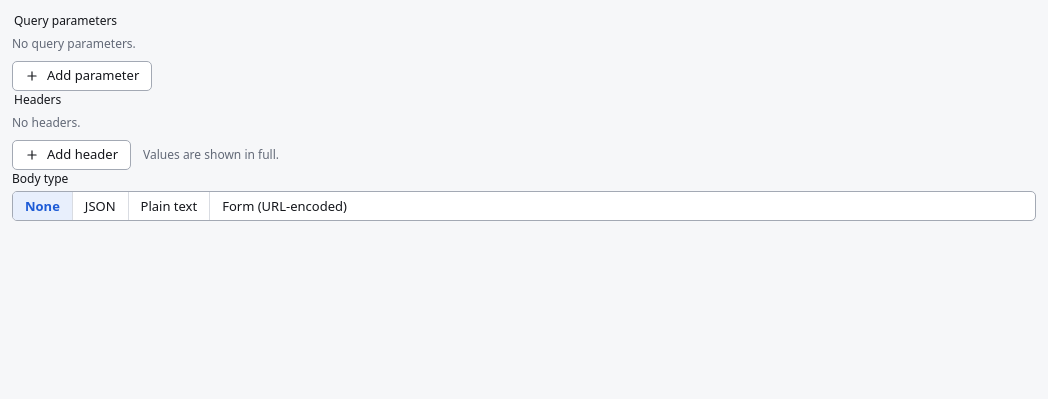
Test: RequestRowsGroup › shows the Body text with its hint for Form (URL-encoded), and hides it for None, keeping the text
Click the radio button named "Form (URL-encoded)" at (285, 206), box left=210, top=192, right=359, bottom=220
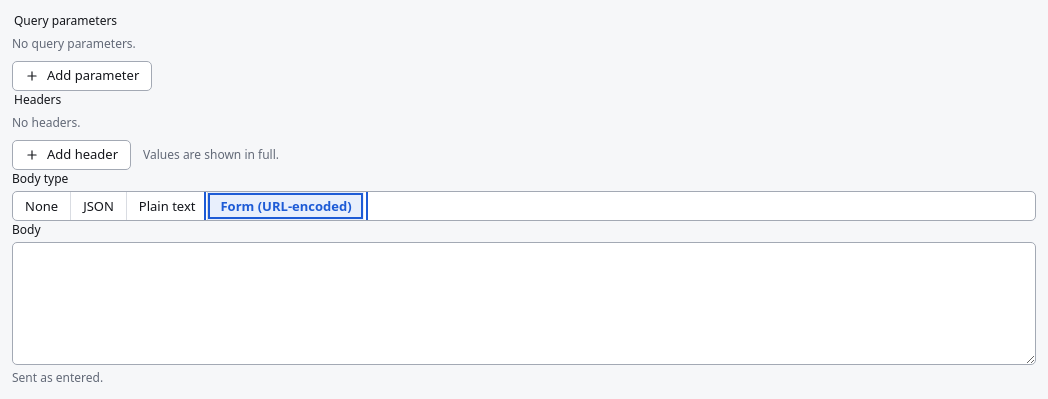
Type "kept text" into the text box labelled "Body" at (524, 303), box left=12, top=242, right=1036, bottom=365
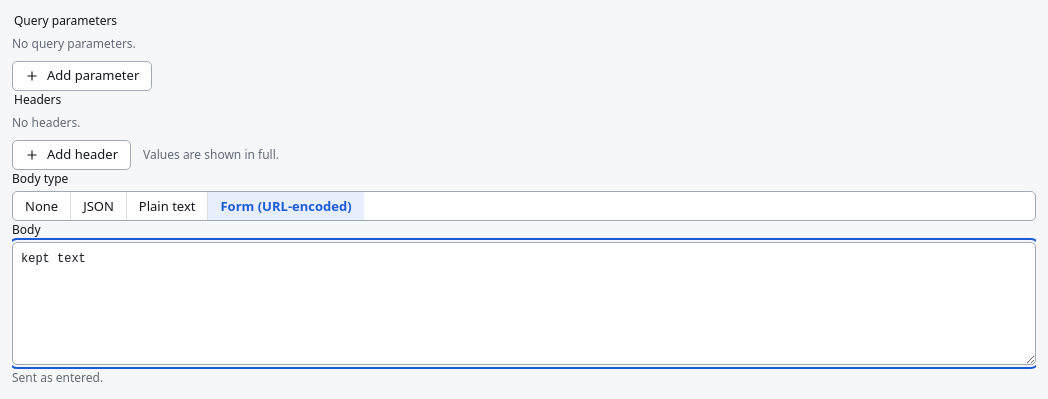
Click the radio button named "None" at (42, 206), box left=13, top=192, right=70, bottom=220
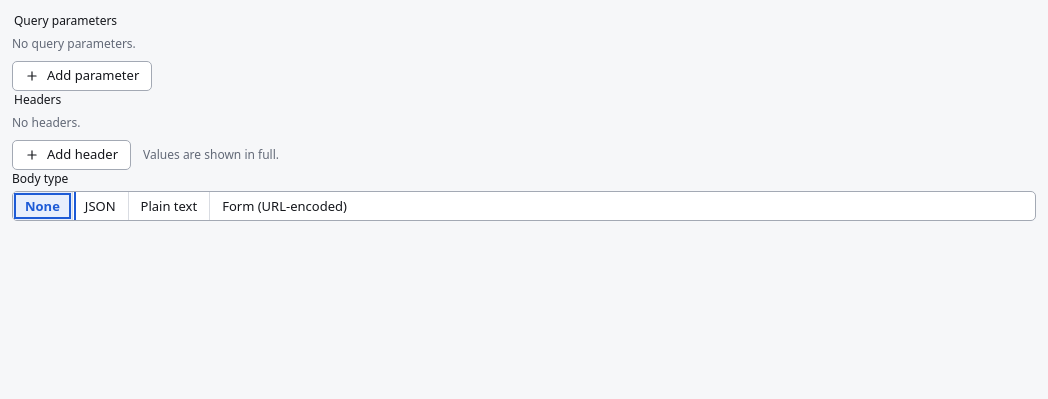
Click the radio button named "Form (URL-encoded)" at (285, 206), box left=210, top=192, right=359, bottom=220
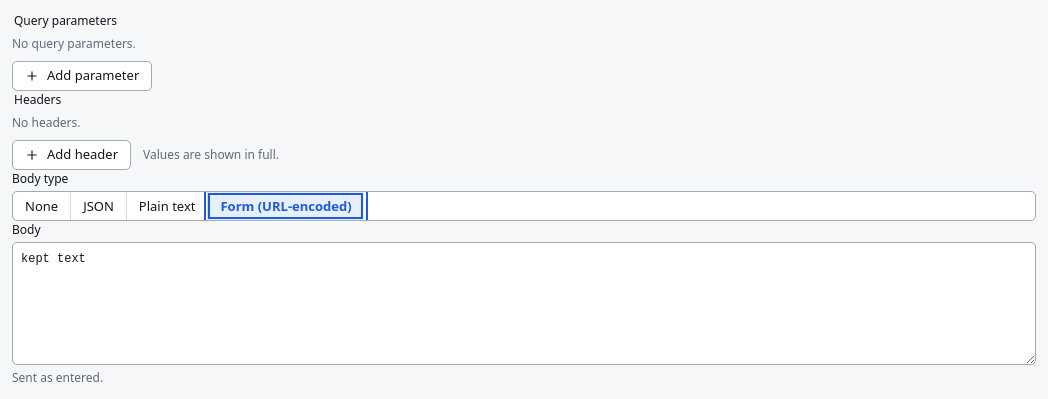
Expected: the text box labelled "Body" holds "kept text", left=12, top=242, right=1036, bottom=365
